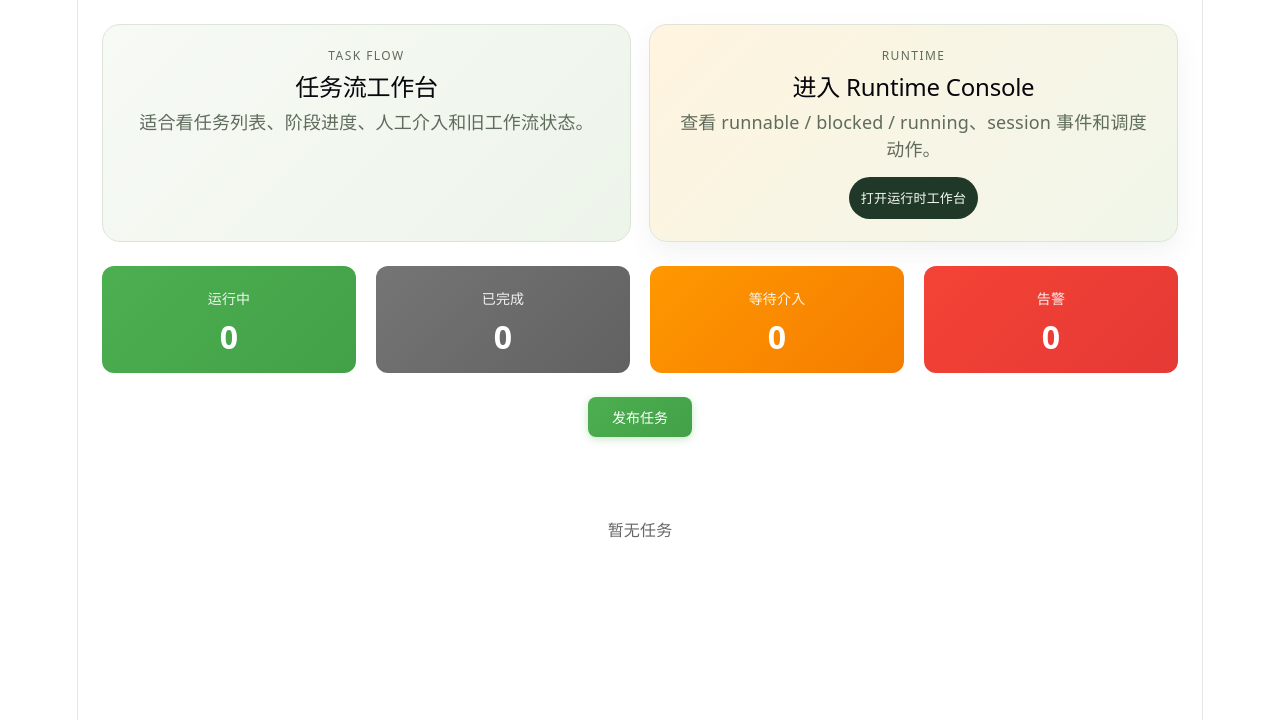
Test: Dashboard › 点击统计卡片触发过滤
#  点击第一个卡片
Click the element showing "运行中 0".
click(229, 319)  # box [102, 266, 356, 372]
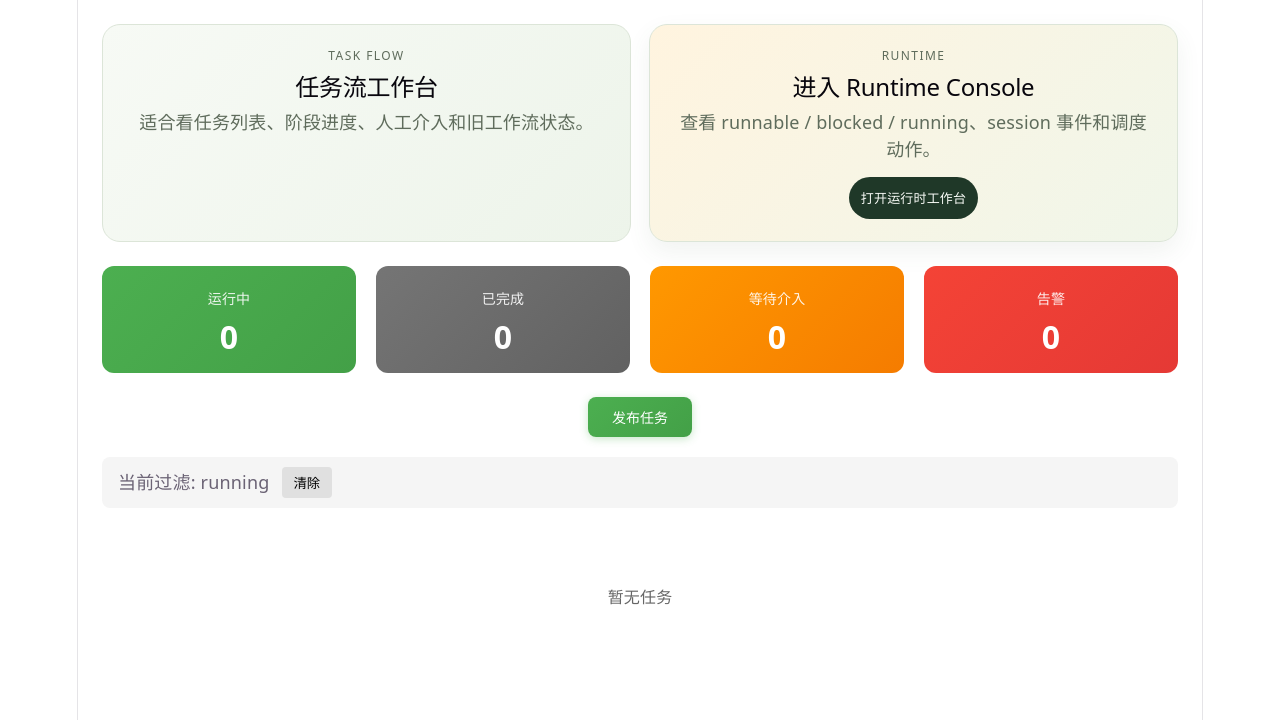
Expected: the element with class "filter-bar" is shown, [102, 456, 1178, 508]
